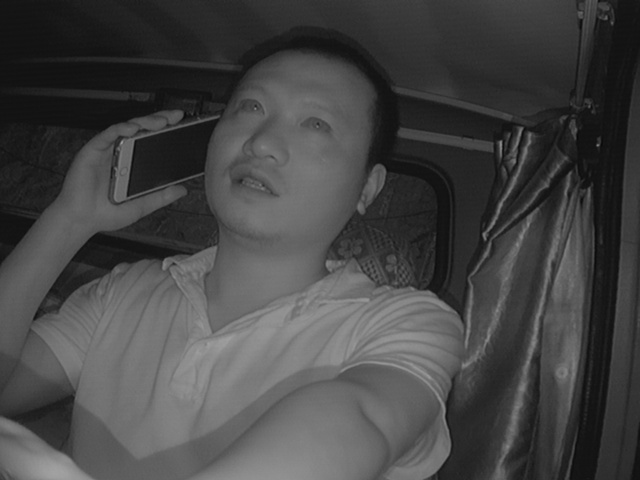hand: (68, 103, 187, 233)
